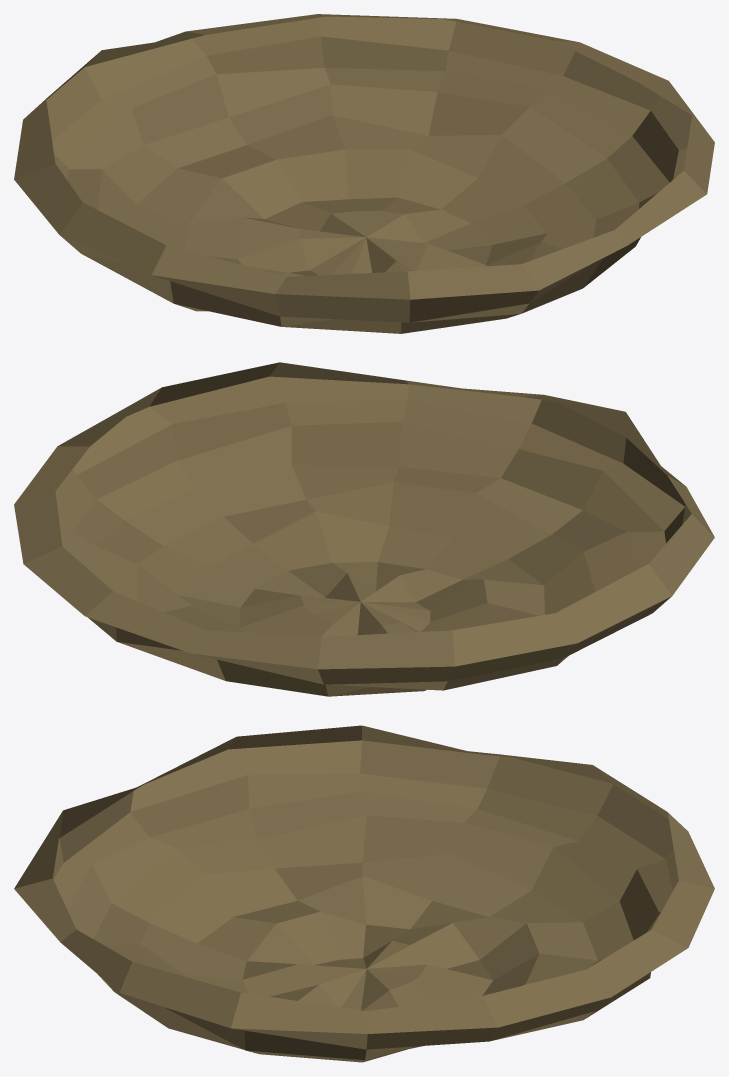
The model's file is Lake.fbx.
3 views of the same model, one above another, from view 1: azimuth 30°, elevation 25°; view 2: azimuth 150°, elevation 25°; view 3: azimuth 270°, elevation 25° (orthographic).
Parts seen in each view (by area): view 1: LakeRing; view 2: LakeRing; view 3: LakeRing.
Boxes of the visible parts, bbox=[...] form: LakeRing: bbox=[14, 14, 714, 333]; LakeRing: bbox=[14, 362, 714, 696]; LakeRing: bbox=[14, 725, 714, 1062].
Bounding box in the file's own units: 1091 × 212 × 1091.
